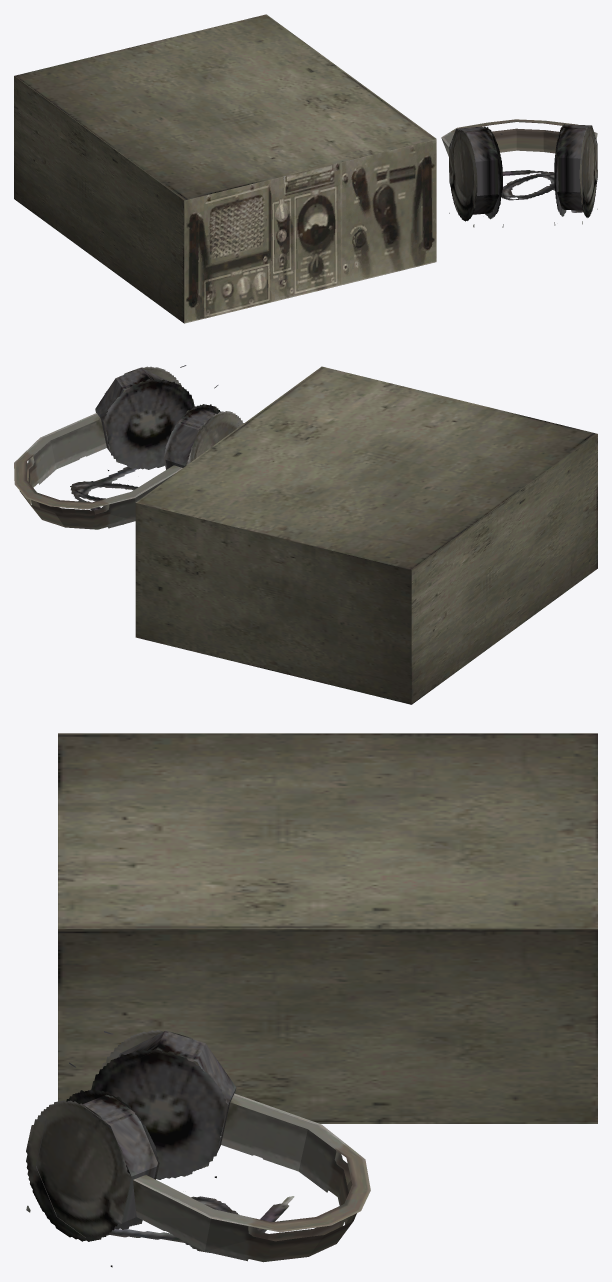
File: CRadio.glb
3 renders of one model, top to bottom at view 1: azimuth 30°, elevation 25°; view 2: azimuth 150°, elevation 25°; view 3: azimuth 270°, elevation 25°, orthographic. The views are drawn at different scales.
Parts seen in each view (by area): view 1: _ComRadio; view 2: _ComRadio; view 3: _ComRadio.
Boxes of the visible parts, left/top/right/bottom form: _ComRadio: left=14, top=14, right=597, bottom=323; _ComRadio: left=14, top=365, right=597, bottom=704; _ComRadio: left=26, top=733, right=597, bottom=1267.
Bounding box in the file's own units: 0.9196 × 0.2429 × 0.6325.
Materials: 1 (1 with a texture image).
